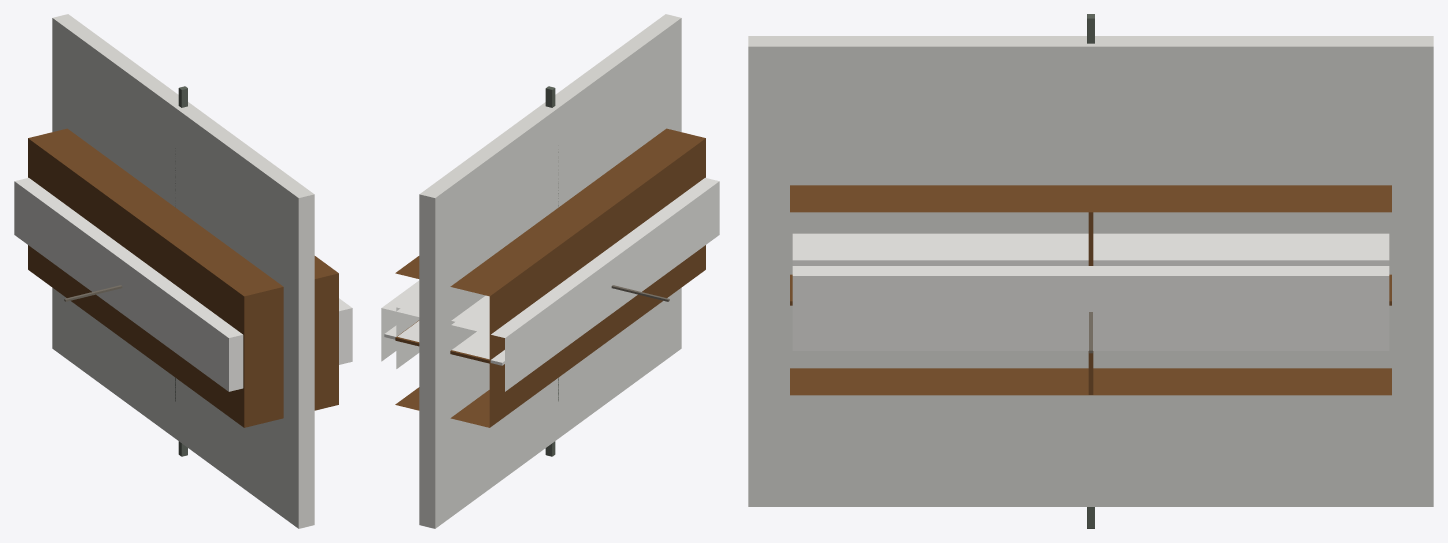
Rendered from room-6-5e78b77fe4ed.glb.
The picture shows the model from 3 angles, left to right: view 1: azimuth 30°, elevation 25°; view 2: azimuth 150°, elevation 25°; view 3: azimuth 270°, elevation 25°; orthographic projection. The views are drawn at different scales.
Parts seen in each view (by area): view 1: 门外边界_非公区实测, 入户侧高柜, 连通口右侧柜; view 2: 门外边界_非公区实测, 入户侧高柜, 连通口右侧柜, 连通口左侧柜, 连通口左侧柜门板1; view 3: 门外边界_非公区实测, 连通口右侧柜, 入户侧高柜, 连通口左侧柜.
Part boxes in pixels (left/top/right/bottom): 门外边界_非公区实测: left=52, top=14, right=314, bottom=528; 入户侧高柜: left=28, top=128, right=338, bottom=427; 连通口右侧柜: left=14, top=177, right=352, bottom=391; 门外边界_非公区实测: left=419, top=14, right=681, bottom=528; 入户侧高柜: left=395, top=128, right=705, bottom=427; 连通口右侧柜: left=381, top=177, right=719, bottom=391; 连通口左侧柜: left=396, top=291, right=489, bottom=368; 连通口左侧柜门板1: left=397, top=321, right=489, bottom=359; 门外边界_非公区实测: left=748, top=36, right=1433, bottom=506; 连通口右侧柜: left=792, top=266, right=1389, bottom=350; 入户侧高柜: left=790, top=185, right=1391, bottom=395; 连通口左侧柜: left=792, top=233, right=1389, bottom=265.
Size of the model in its own units: 1.5 by 2.22 by 2.7.
